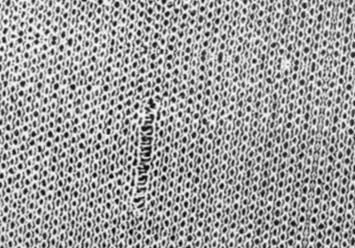slub: (133, 98, 157, 216)
